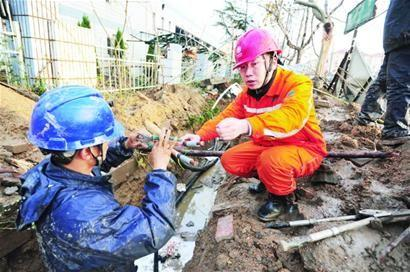boots: (257, 193, 299, 222)
gloves: (214, 117, 249, 141), (179, 132, 201, 147)
hard-hat: (26, 85, 117, 152), (231, 27, 281, 70)
person: (15, 84, 178, 272), (180, 28, 329, 222)
ppe-suit: (15, 154, 178, 270), (194, 65, 328, 197)
